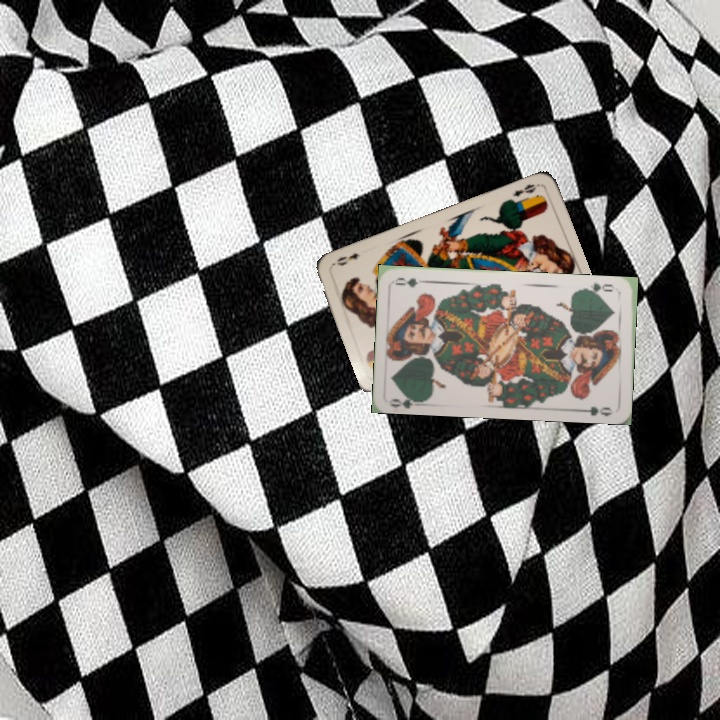EO: (509, 180, 539, 200)
GO: (386, 390, 427, 410), (581, 279, 617, 298)
